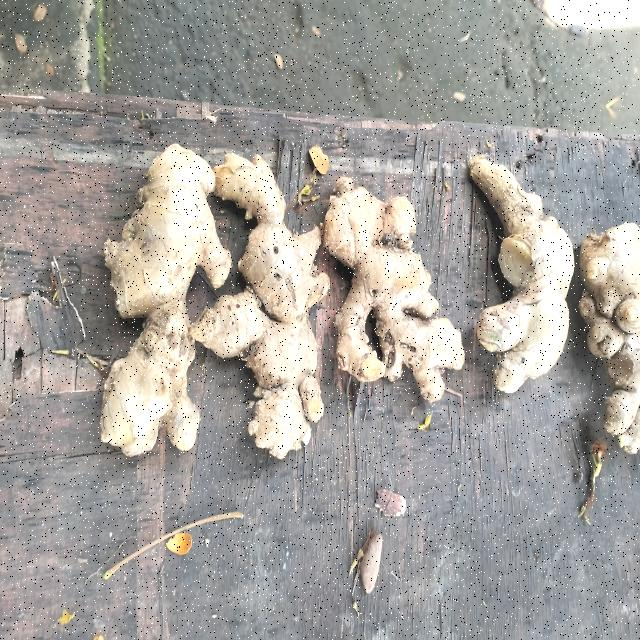ginger: (96, 134, 222, 476), (208, 140, 326, 479), (322, 159, 469, 429), (460, 138, 583, 416), (557, 176, 640, 454)
